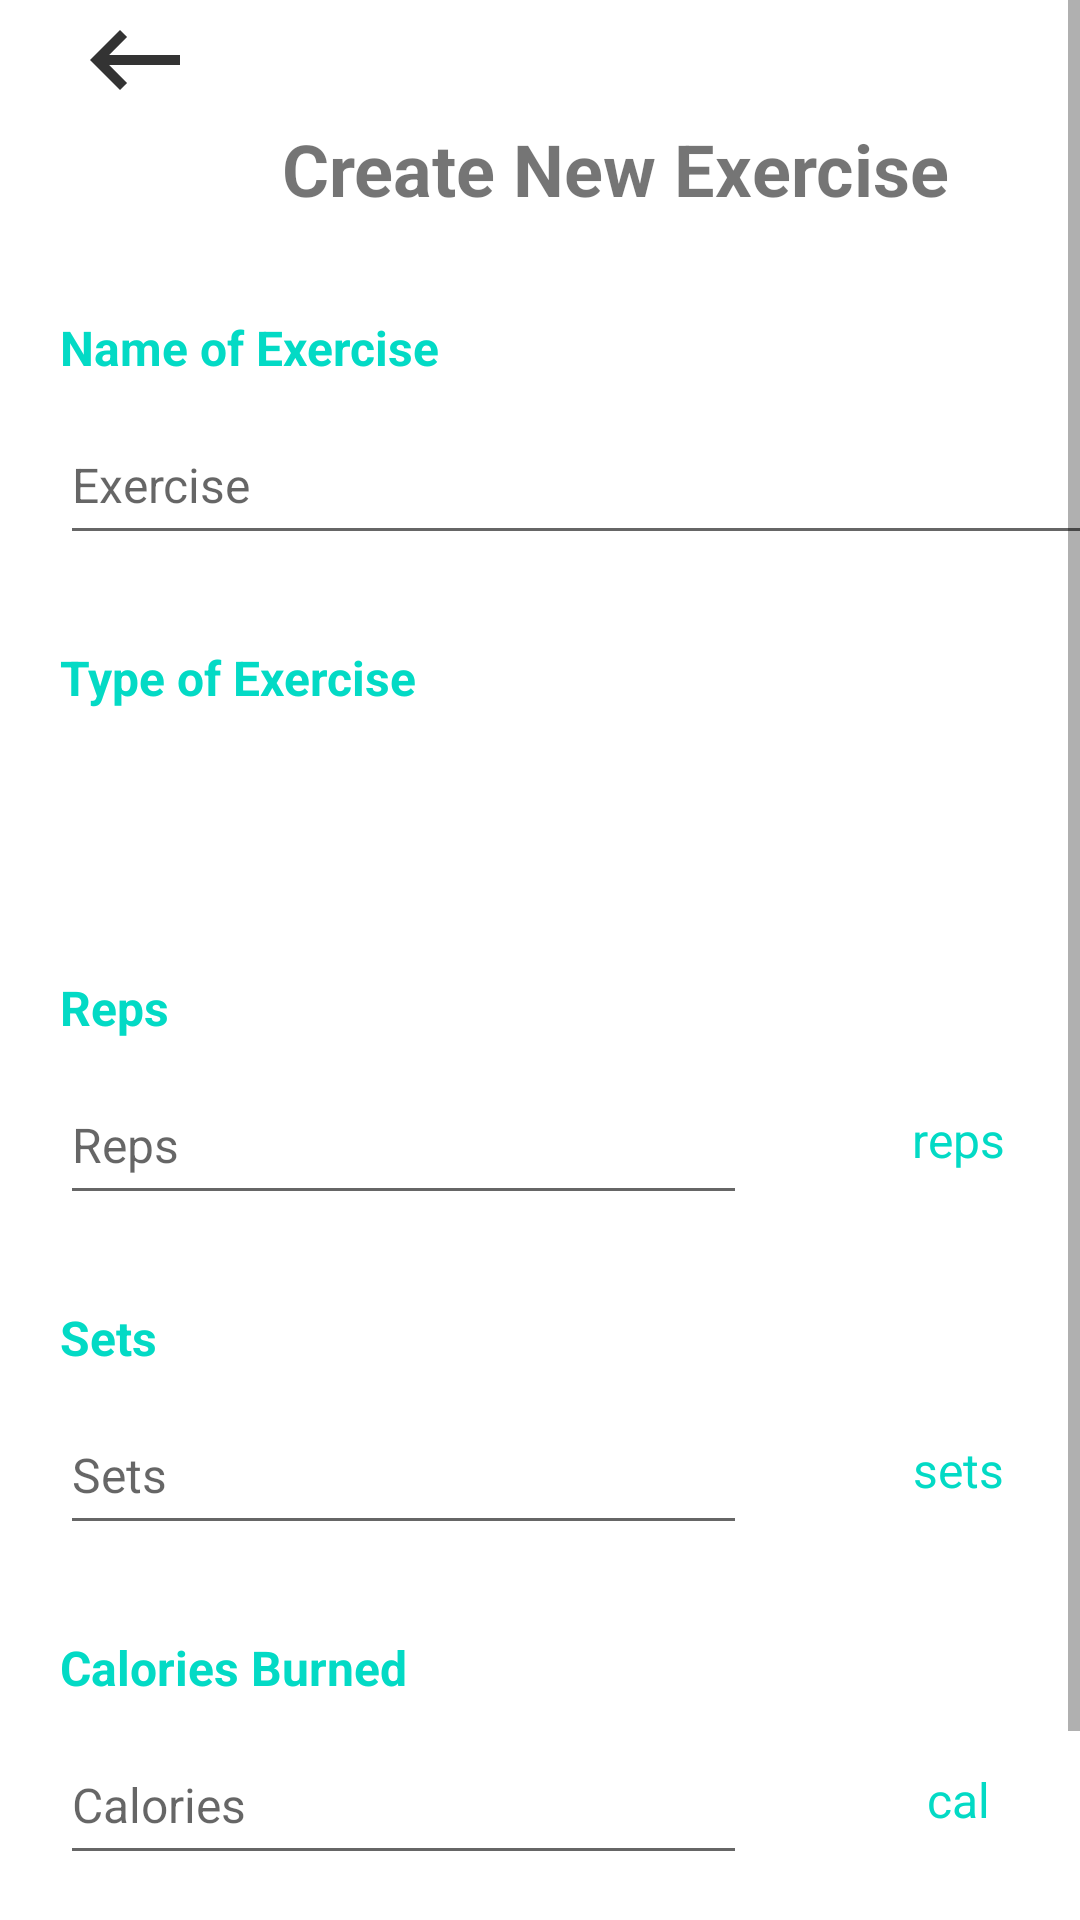

Icon click points for this 1080w x 1920h phone screenshot, format (x=x, y=y):
return arrow: (x=135, y=60)
